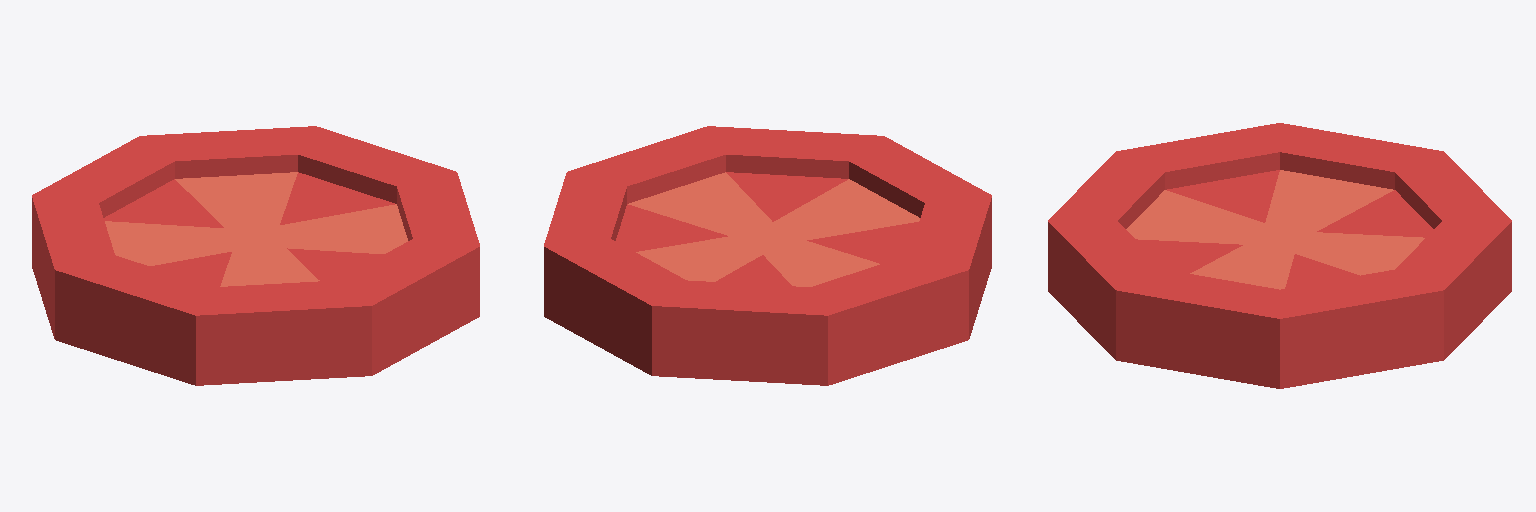
Rendered from tomatoSlice.obj.
3 renders of one model, left to right at view 1: azimuth 30°, elevation 25°; view 2: azimuth 150°, elevation 25°; view 3: azimuth 270°, elevation 25°, orthographic.
Visible parts, largest first — view 1: tomatoSlice; view 2: tomatoSlice; view 3: tomatoSlice.
Part boxes in pixels (left/top/right/bottom): tomatoSlice: left=32, top=126, right=479, bottom=385; tomatoSlice: left=544, top=126, right=991, bottom=385; tomatoSlice: left=1048, top=123, right=1511, bottom=388.
Size of the model in its own units: 0.18 by 0.03 by 0.18.